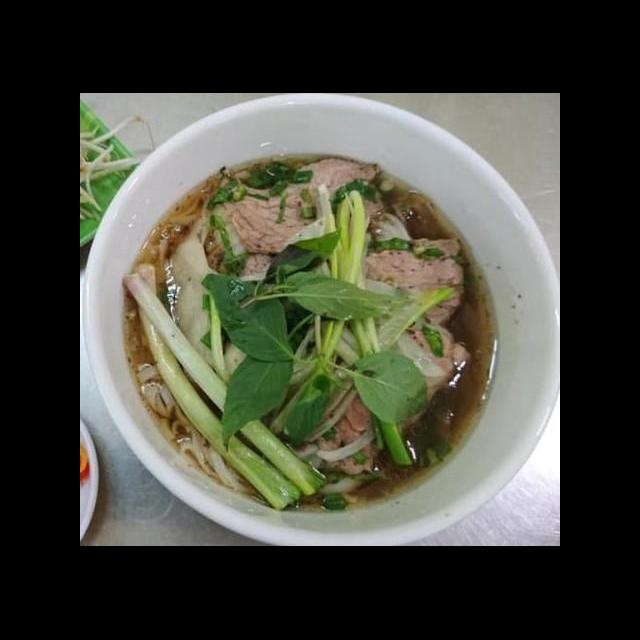banh pho: (127, 360, 254, 500)
pho bo: (107, 118, 560, 546)
thit bo: (198, 146, 388, 288), (371, 313, 475, 432), (360, 232, 469, 326), (314, 372, 392, 478)
